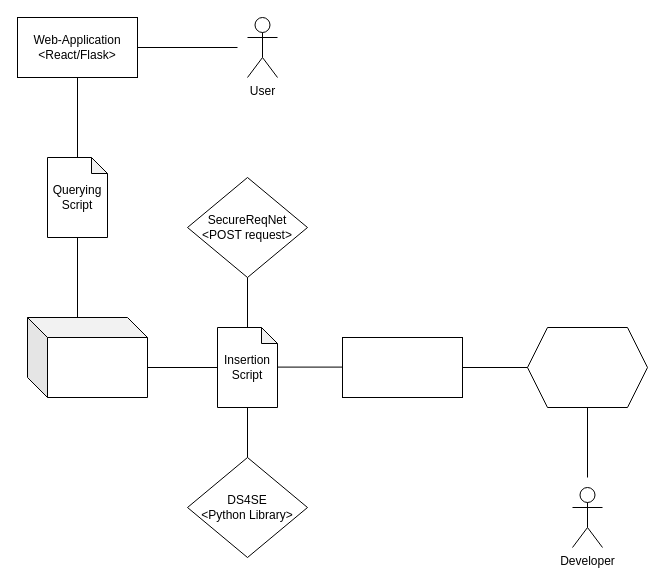
Some shapes in this 665 by 586 pixel diagram are drawn without their labels. The shapes that lost their labels are listed below. From the top down, each one's centre as x and y in pixels, then its label:
[87,357]: MongoDB <Database>
[402,367]: Jenkins <CI/CD>
[587,367]: GitHub <Repository>
